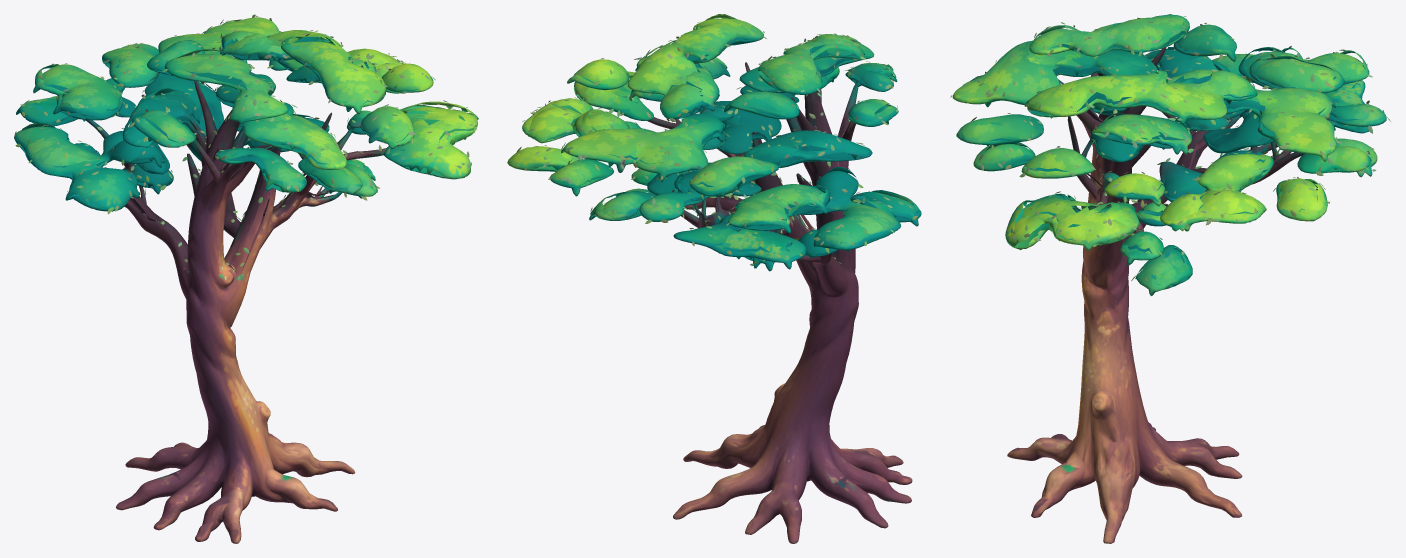
The model's file is ancient-tree.glb.
3 renders of one model, left to right at view 1: azimuth 30°, elevation 25°; view 2: azimuth 150°, elevation 25°; view 3: azimuth 270°, elevation 25°, orthographic. The views are drawn at different scales.
Parts seen in each view (by area): view 1: node_0, Layered canopy leaves; view 2: node_0, Layered canopy leaves; view 3: node_0, Layered canopy leaves.
Boxes of the visible parts, x1=… form: node_0: x1=14, y1=17, x2=478, y2=543; Layered canopy leaves: x1=14, y1=14, x2=476, y2=280; node_0: x1=507, y1=14, x2=921, y2=543; Layered canopy leaves: x1=516, y1=14, x2=917, y2=265; node_0: x1=952, y1=14, x2=1386, y2=543; Layered canopy leaves: x1=950, y1=14, x2=1390, y2=281.
Bounding box in the file's own units: 15.91 × 17.26 × 15.
Materials: 2 (1 with a texture image).
